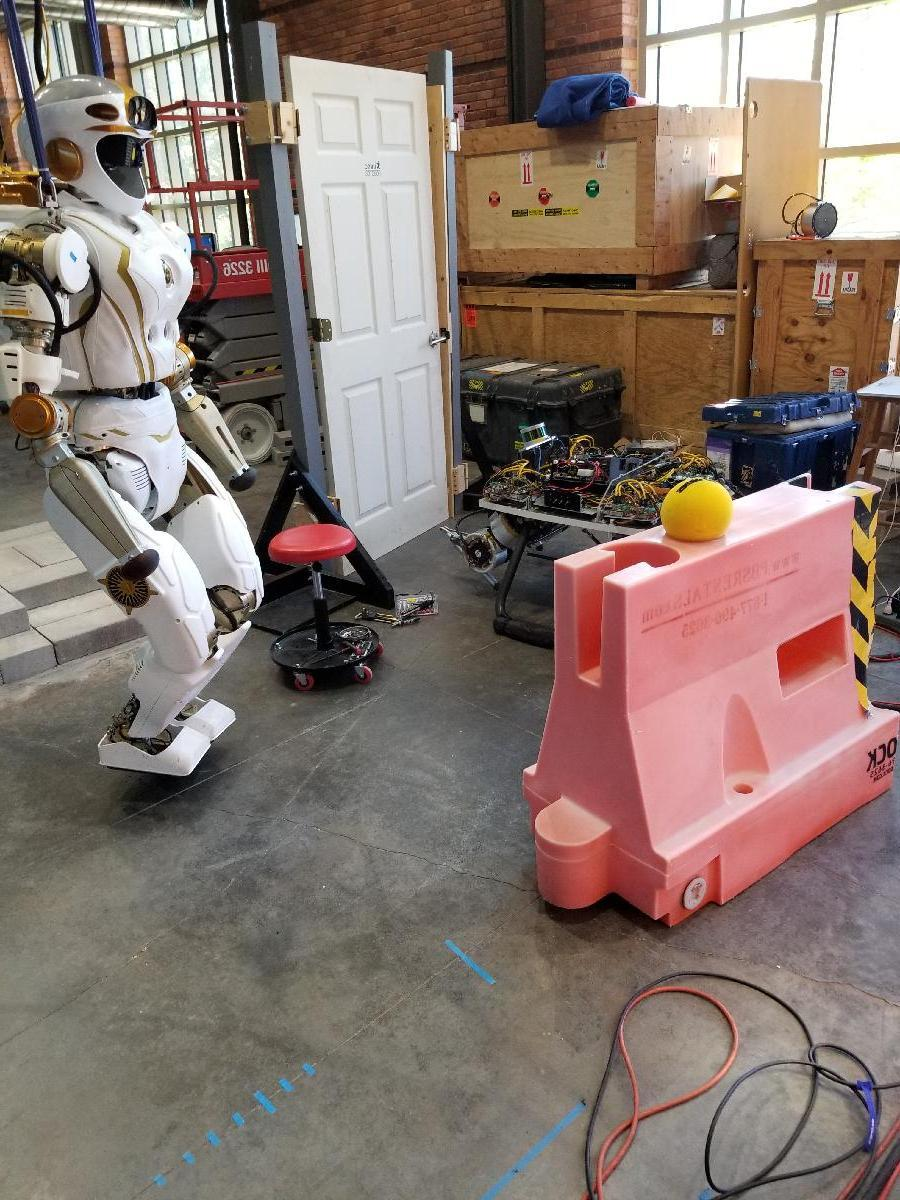door: (290, 73, 434, 540)
handle: (418, 326, 454, 351)
